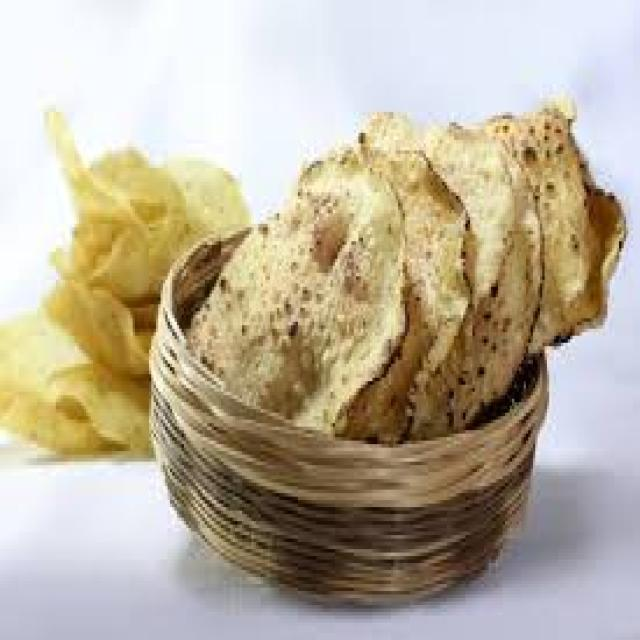papad: (23, 88, 212, 460), (184, 151, 413, 445), (372, 108, 540, 430), (349, 142, 480, 444), (510, 95, 624, 382)
